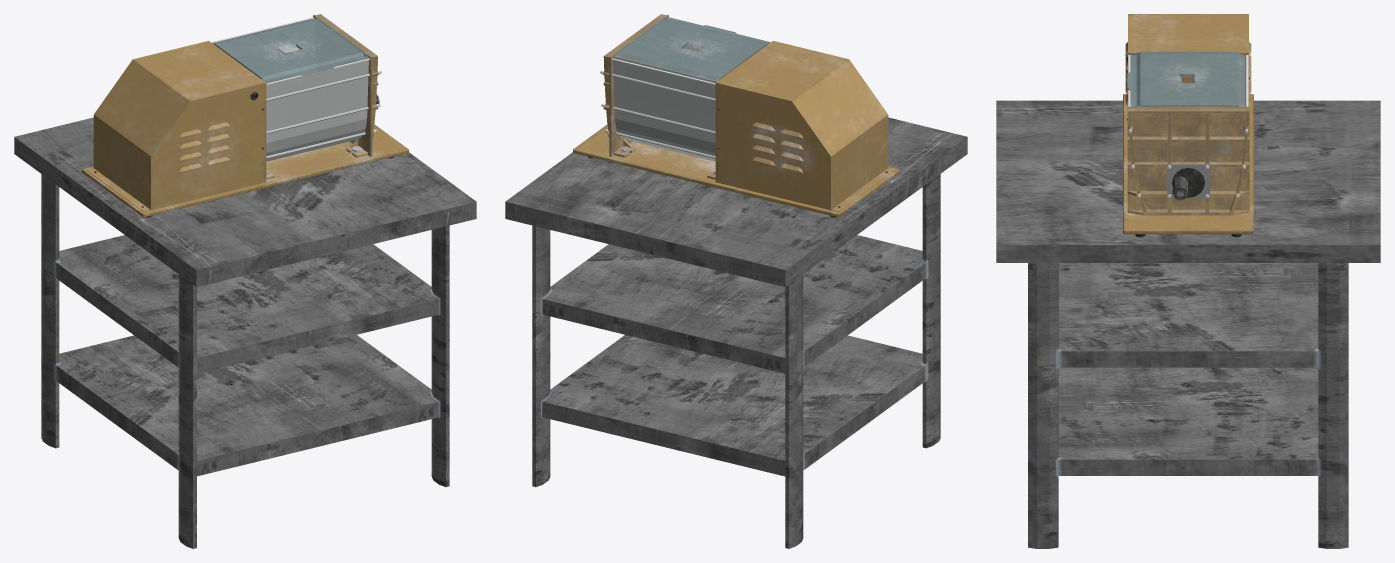
Rendered from spiral_mixer.glb.
3 renders of one model, left to right at view 1: azimuth 30°, elevation 25°; view 2: azimuth 150°, elevation 25°; view 3: azimuth 270°, elevation 25°, orthographic. The views are drawn at different scales.
Visible parts, largest first — view 1: steel_table_0_n0, dough_mixer_6_n1, dough_mixer_11_n1, dough_mixer_2_n1, dough_mixer_8_n1, dough_mixer_4_n1; view 2: steel_table_0_n0, dough_mixer_6_n1, dough_mixer_11_n1, dough_mixer_2_n1, dough_mixer_8_n1, dough_mixer_4_n1; view 3: steel_table_0_n0, dough_mixer_8_n1, dough_mixer_6_n1, dough_mixer_2_n1, dough_mixer_3_n1.
Boxes of the visible parts, <box> form: steel_table_0_n0: <box>14,117,476,548</box>; dough_mixer_6_n1: <box>82,41,408,217</box>; dough_mixer_11_n1: <box>211,17,370,161</box>; dough_mixer_2_n1: <box>212,18,368,83</box>; dough_mixer_8_n1: <box>313,14,378,156</box>; dough_mixer_4_n1: <box>266,74,369,158</box>; steel_table_0_n0: <box>505,117,967,548</box>; dough_mixer_6_n1: <box>573,40,899,217</box>; dough_mixer_11_n1: <box>611,17,766,161</box>; dough_mixer_2_n1: <box>613,17,770,82</box>; dough_mixer_8_n1: <box>603,14,668,156</box>; dough_mixer_4_n1: <box>612,58,715,158</box>; steel_table_0_n0: <box>996,100,1380,548</box>; dough_mixer_8_n1: <box>1127,106,1249,215</box>; dough_mixer_6_n1: <box>1123,14,1253,234</box>; dough_mixer_2_n1: <box>1127,51,1244,106</box>; dough_mixer_3_n1: <box>1167,164,1209,198</box>.
Bounding box in the file's own units: 0.8 × 1.1 × 0.9.
13 materials, 13 textured.
